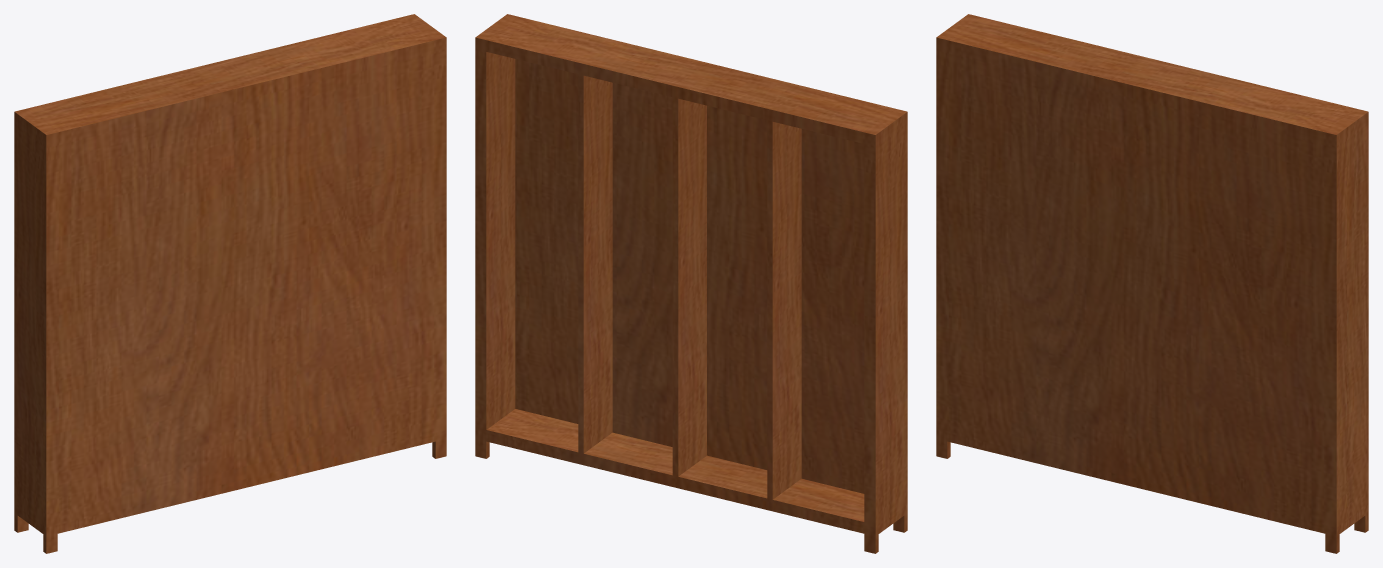
3 views of the same model, side by side, from view 1: azimuth 30°, elevation 25°; view 2: azimuth 150°, elevation 25°; view 3: azimuth 330°, elevation 25° (orthographic).
Parts seen in each view (by area): view 1: mesh1_mesh1-geometry; view 2: mesh1_mesh1-geometry; view 3: mesh1_mesh1-geometry.
Part boxes in pixels (box(x1,y1,x2,y2)): mesh1_mesh1-geometry: box(14, 14, 446, 553); mesh1_mesh1-geometry: box(475, 14, 907, 553); mesh1_mesh1-geometry: box(936, 14, 1368, 553).
Bounding box in the file's own units: 0.7037 × 0.7037 × 0.0977.
Materials: 2 (1 with a texture image).
